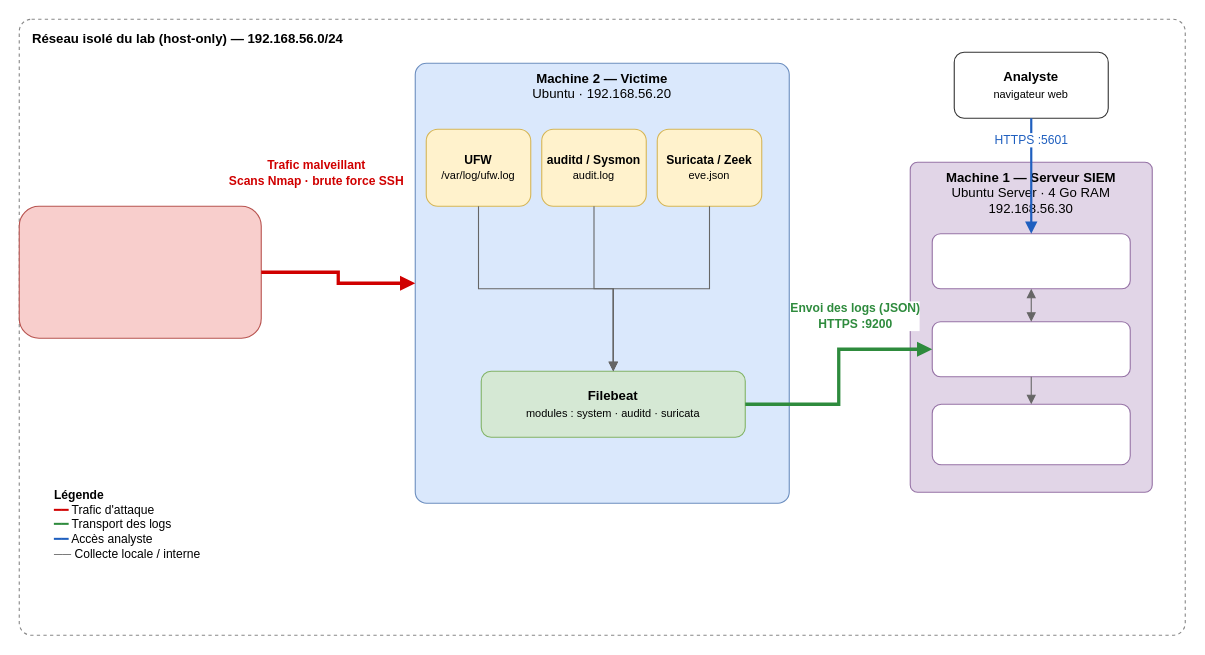
This 1205x655 diagram has some shape labels left out. The shapes that lost their labels are listed below. From the top down, each one's centre as x and y in pixels, then its label:
[139,271]: Machine 3 — Attaquant Kali Linux · 192.168.56.10 Nmap · Hydra · exploits
[1030,261]: Kibana :5601 — investigation
[1030,349]: Elasticsearch :9200 — indexation
[1030,434]: Règles de détection ≥ 5 règles → alertes
